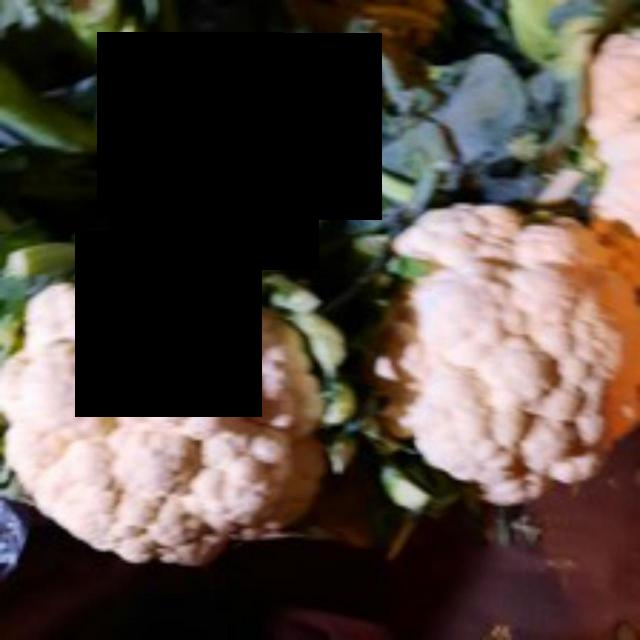cauliflower: (0, 244, 364, 573)
